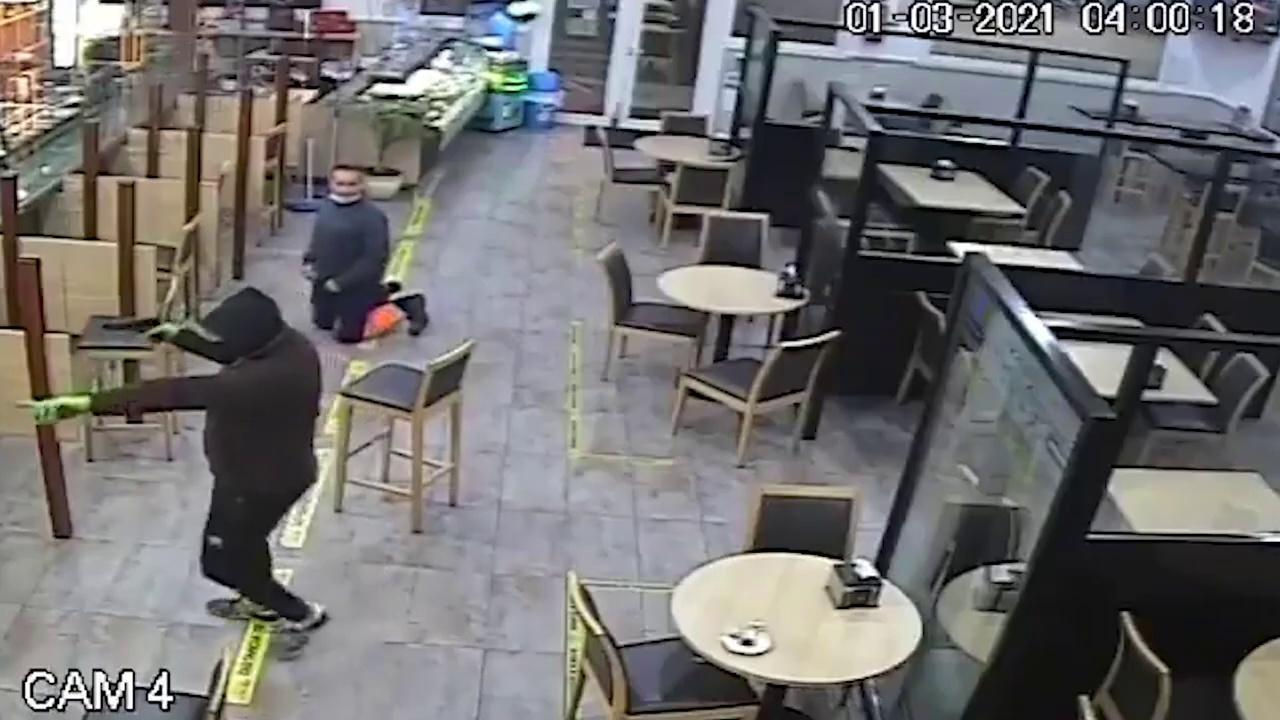Guns: (77, 295, 188, 356)
